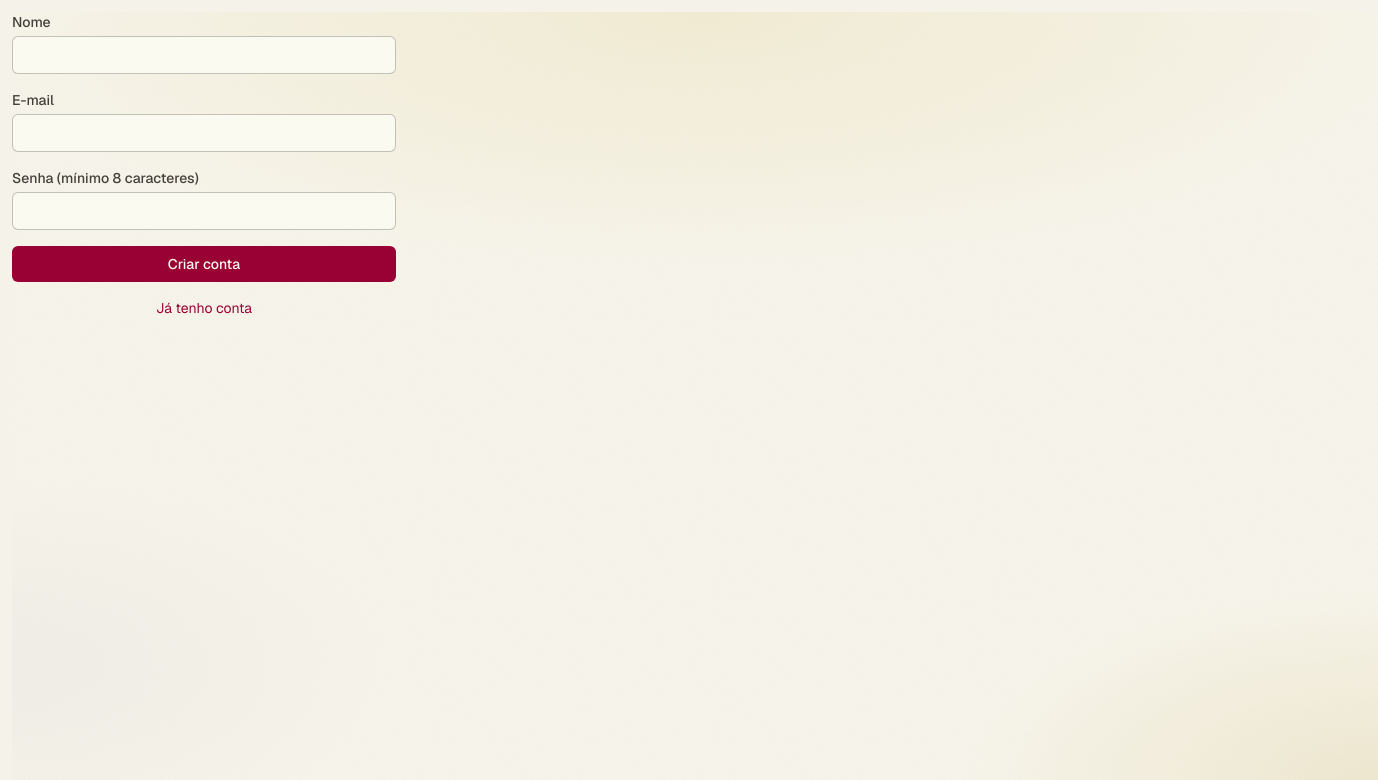
it: Formulário de registro › quando a conta é criada › deve pedir confirmação de e-mail e apontar a caixa de entrada em dev
Type "Aria" into the field labelled "Nome".
click(204, 55); type("Aria")  # box [12,36,396,74]
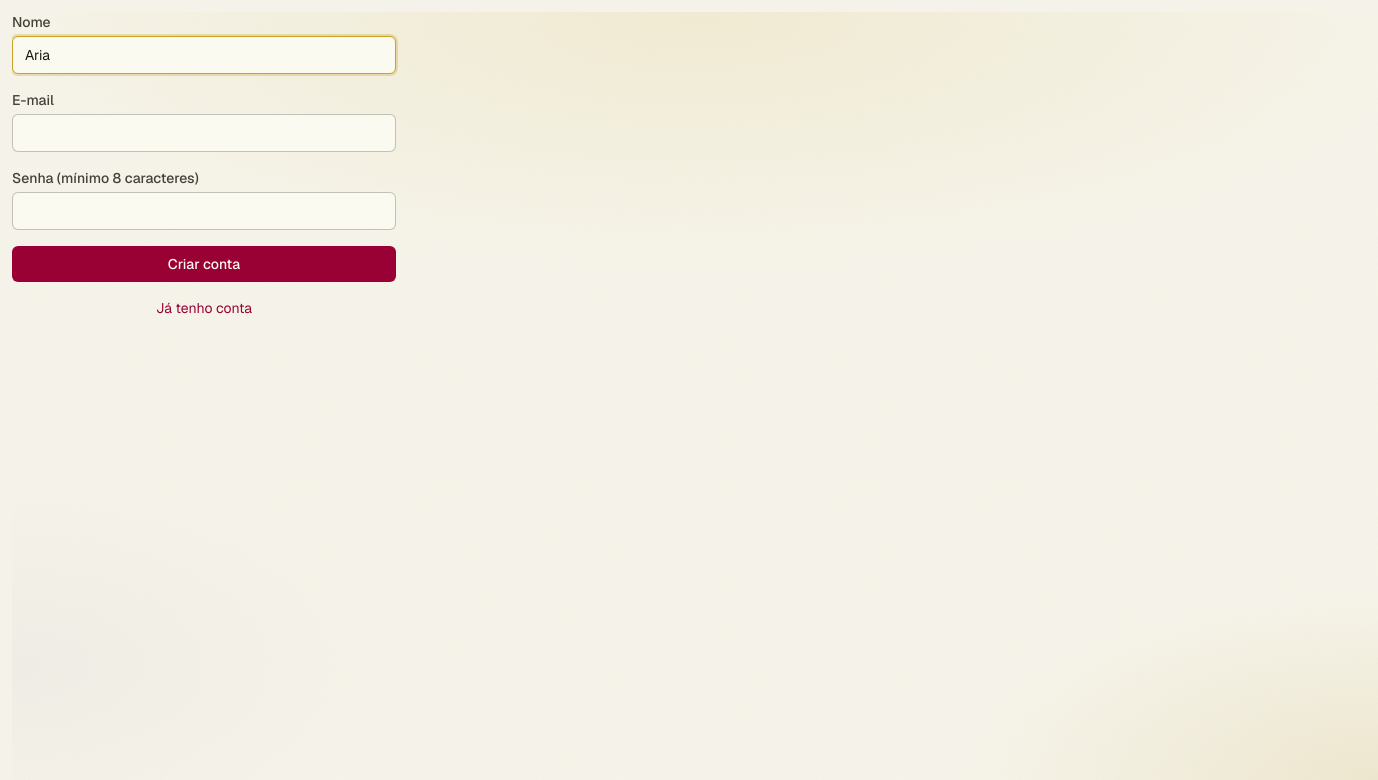
Type "aria@teste.dev" into the field labelled "E-mail".
click(204, 133); type("aria@teste.dev")  # box [12,114,396,152]
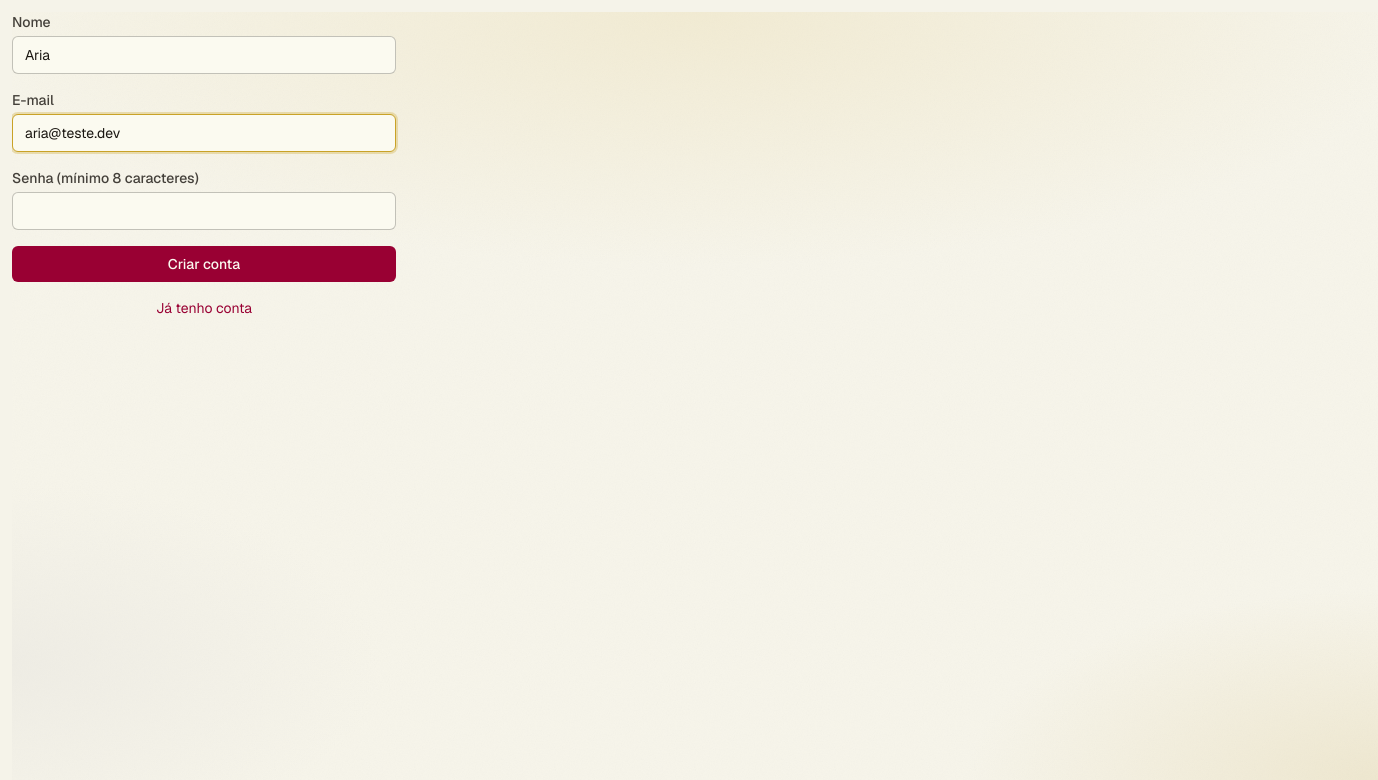
Type "senha-segura" into the password field labelled "Senha (mínimo 8 caracteres)".
click(204, 211); type("senha-segura")  # box [12,192,396,230]
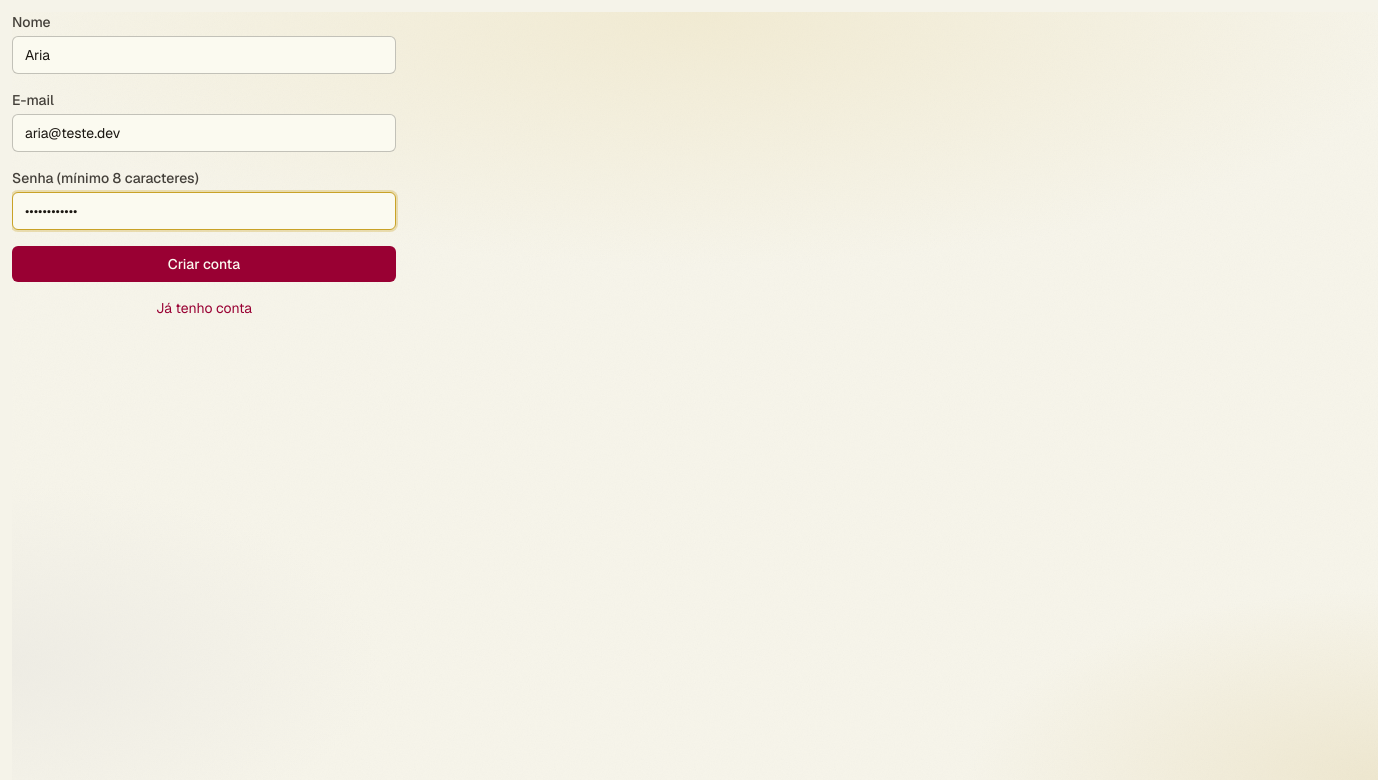
Click the button "Criar conta".
click(204, 264)  # box [12,246,396,282]
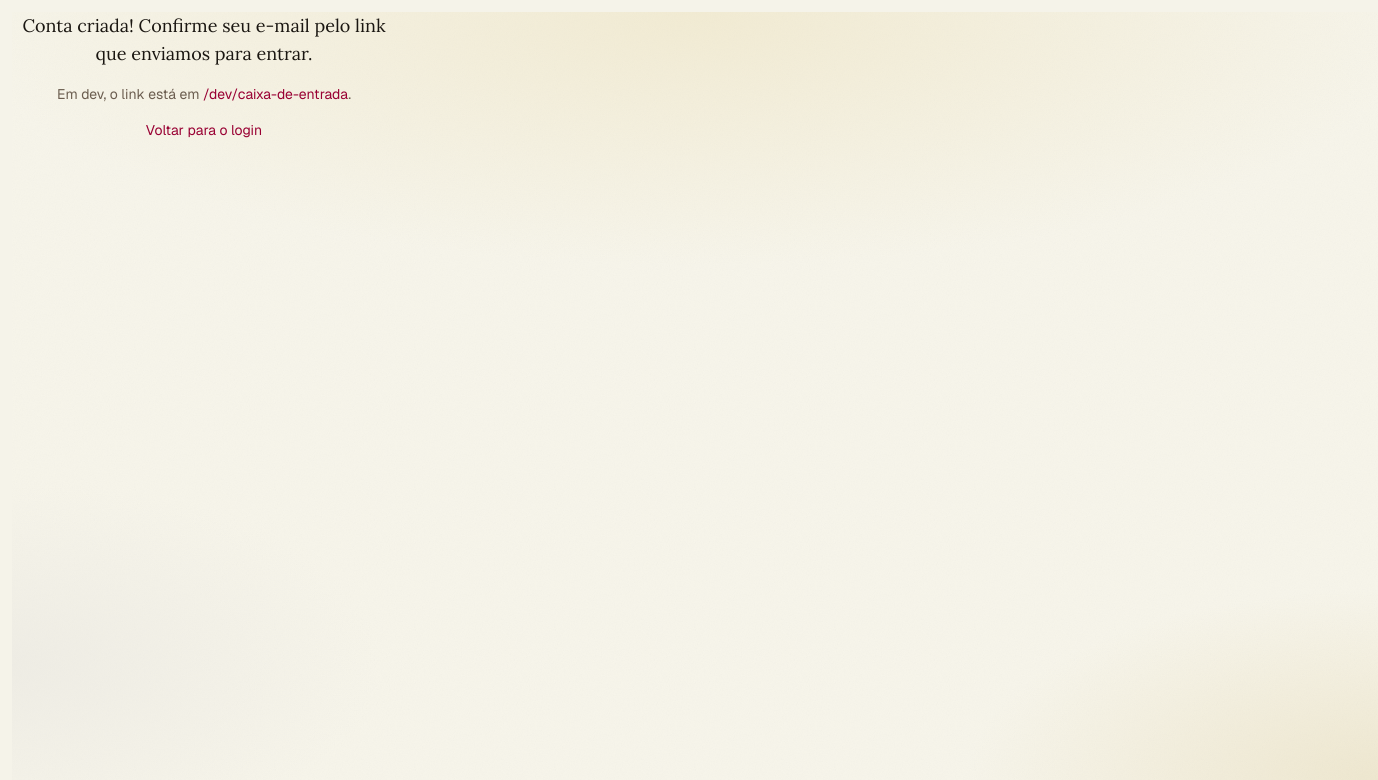
Now the text "Conta criada!" is shown, box [22,14,386,65]
